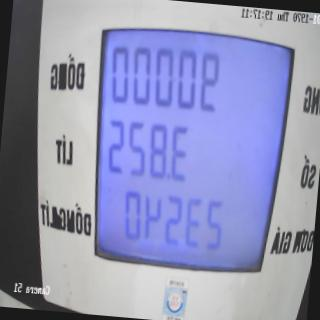screen: (76, 14, 301, 296)
